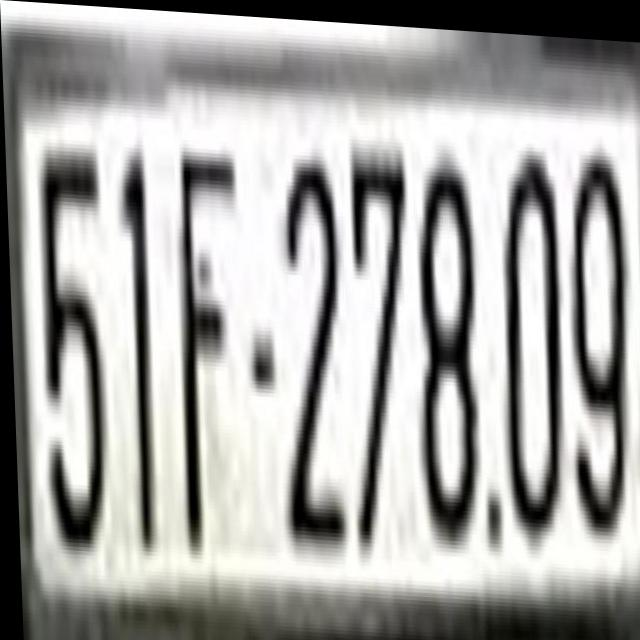0: (491, 134, 567, 533)
1: (115, 130, 161, 559)
2: (271, 119, 344, 549)
5: (38, 141, 109, 567)
7: (339, 122, 414, 552)
8: (409, 118, 479, 525)
9: (562, 137, 633, 548)
F: (168, 117, 243, 555)
